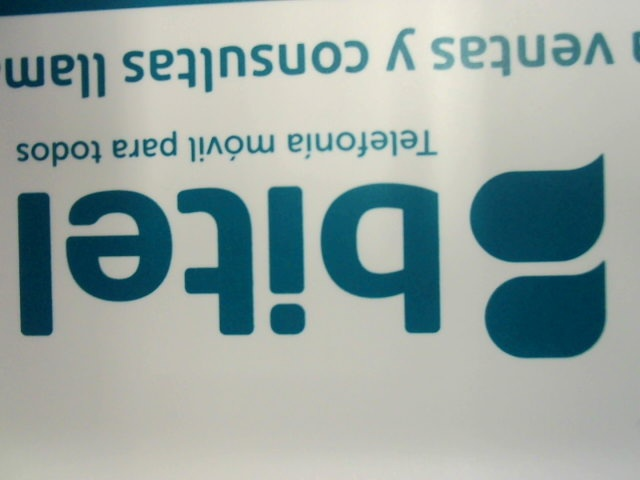BE_bitel: (5, 167, 613, 361)
